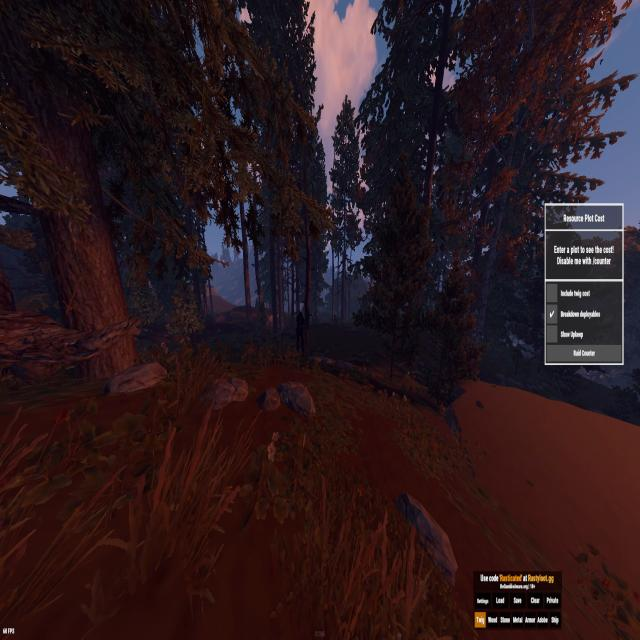Player: (294, 308, 306, 355)
